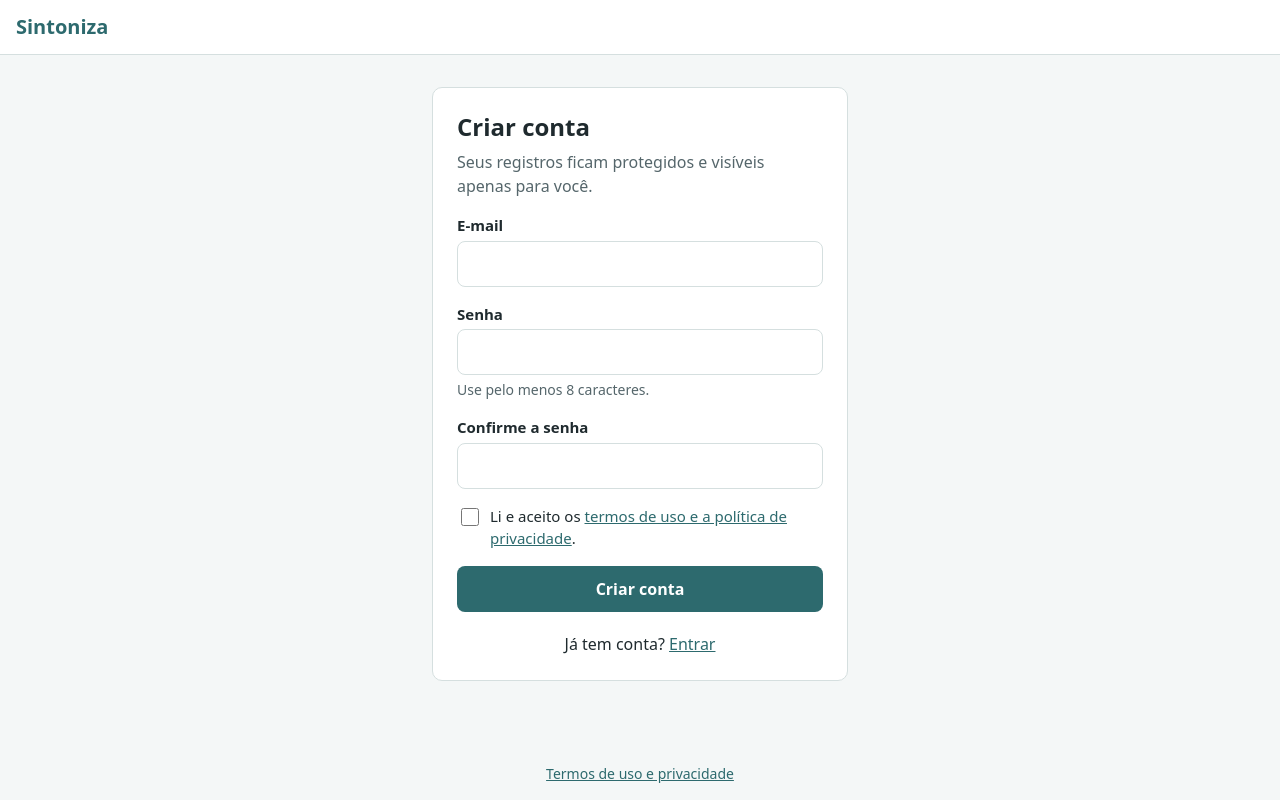
Test: RegisterPage › reports an e-mail that is already registered
Type "ana@example.com" into the field labelled "E-mail" at (640, 264), box [457,240,823,286]
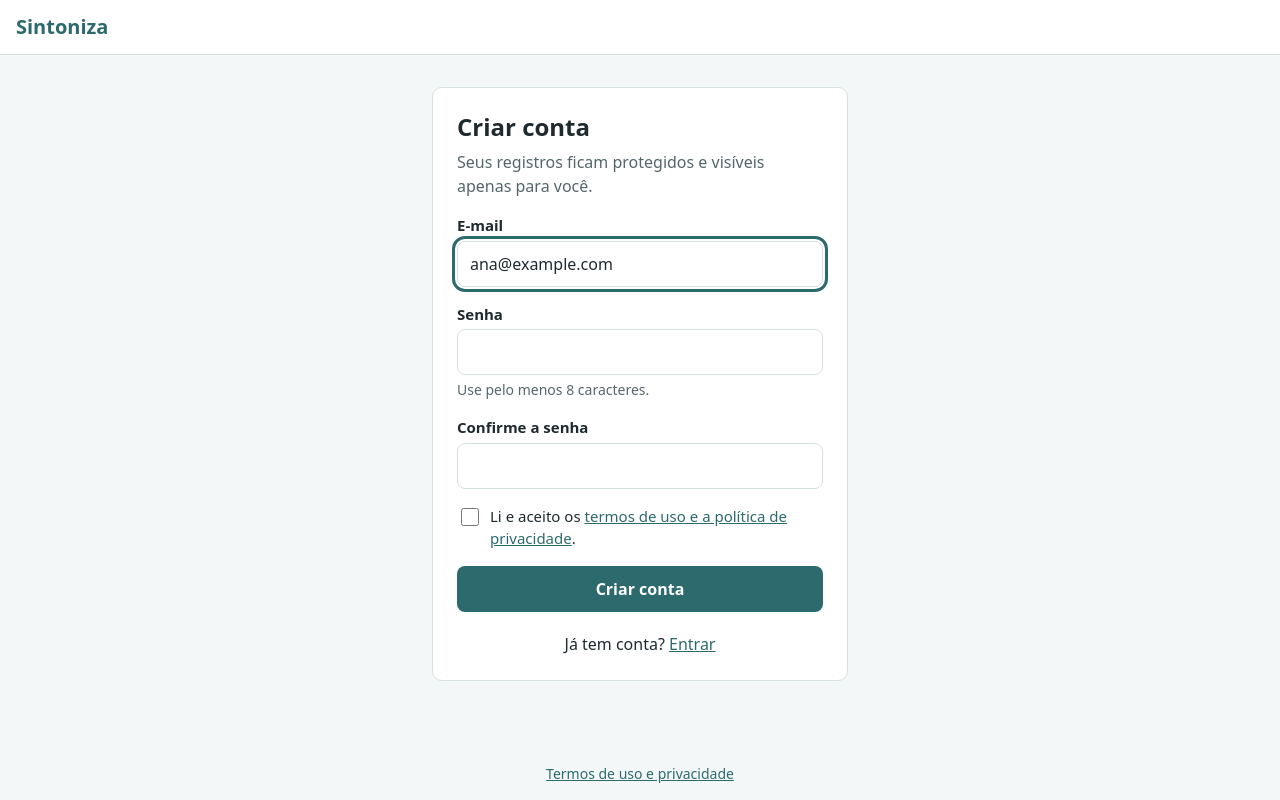
Type "senha-segura-123" into the password field labelled "Senha" at (640, 352), box [457,329,823,375]
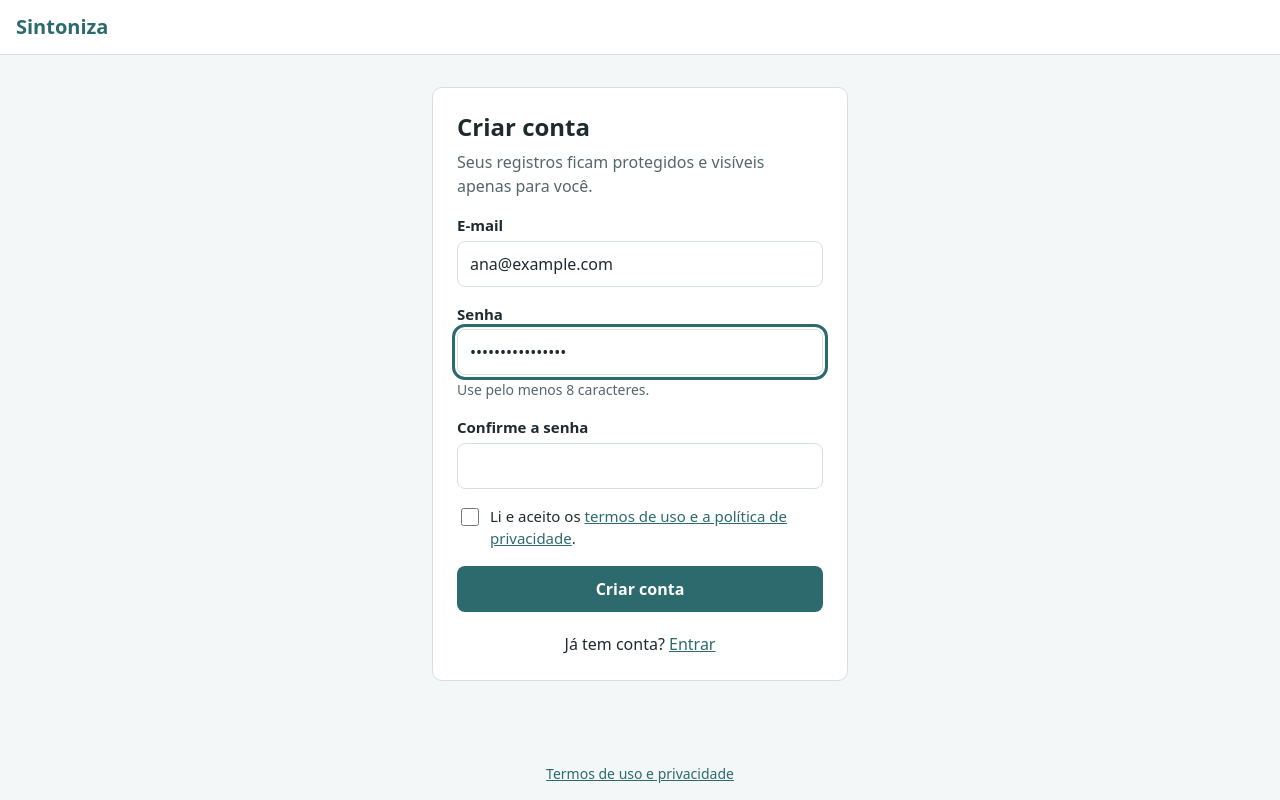
Type "senha-segura-123" into the password field labelled "Confirme a senha" at (640, 466), box [457,442,823,488]
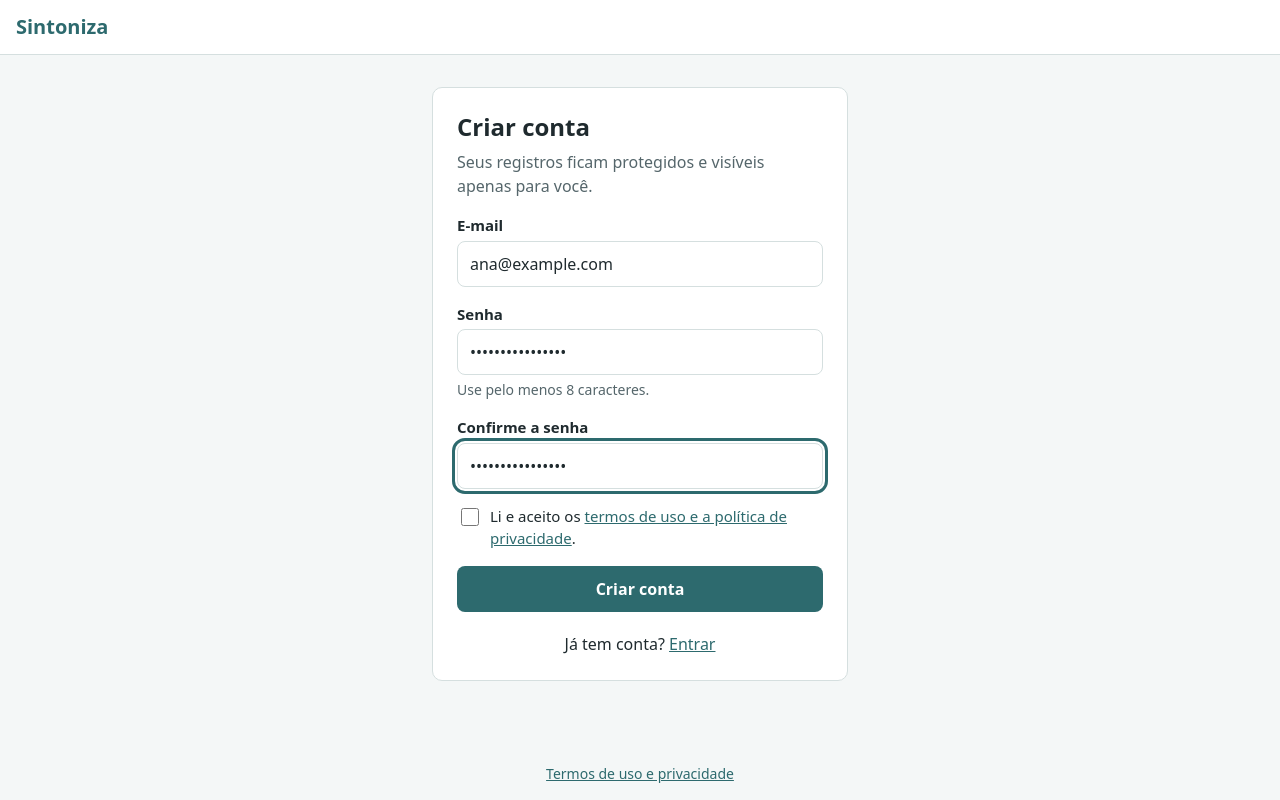
Click the checkbox at (470, 517), box [461,508,479,526]
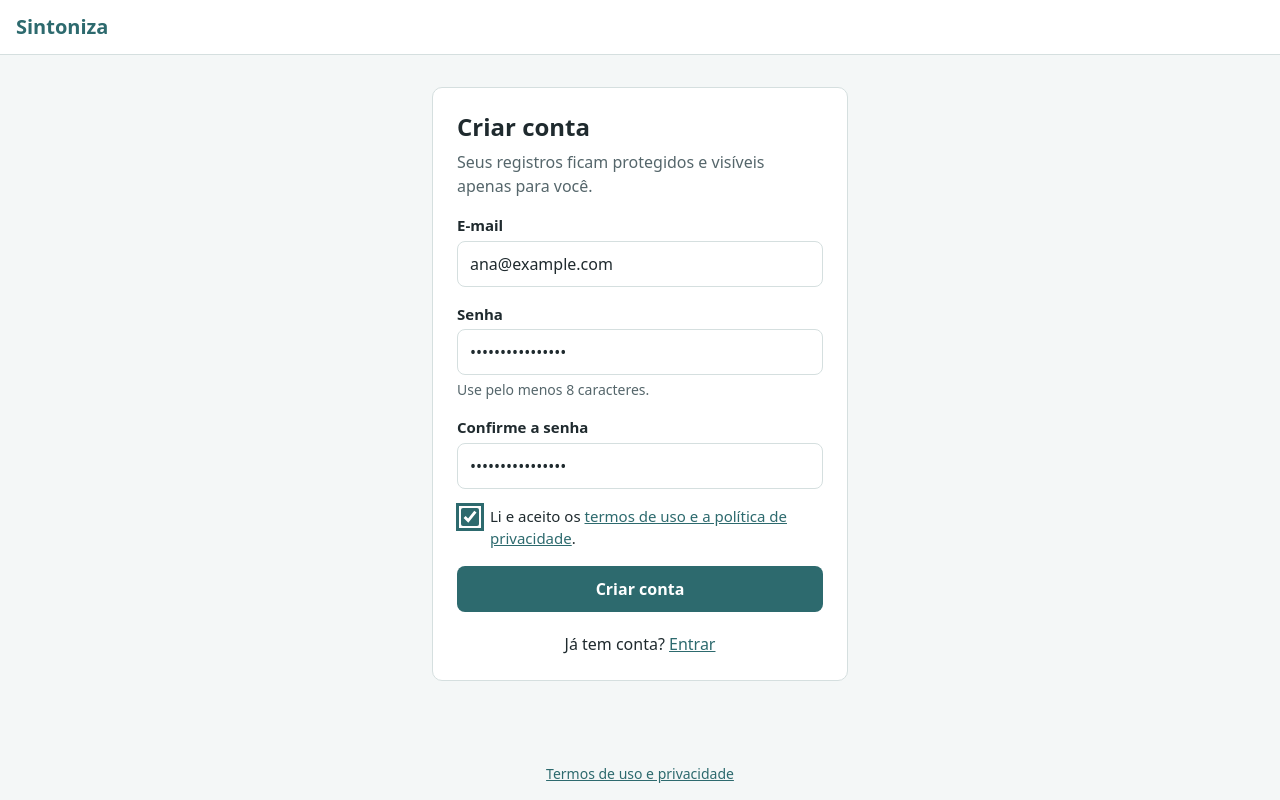
Click the button "Criar conta" at (640, 588), box [457,566,823,612]
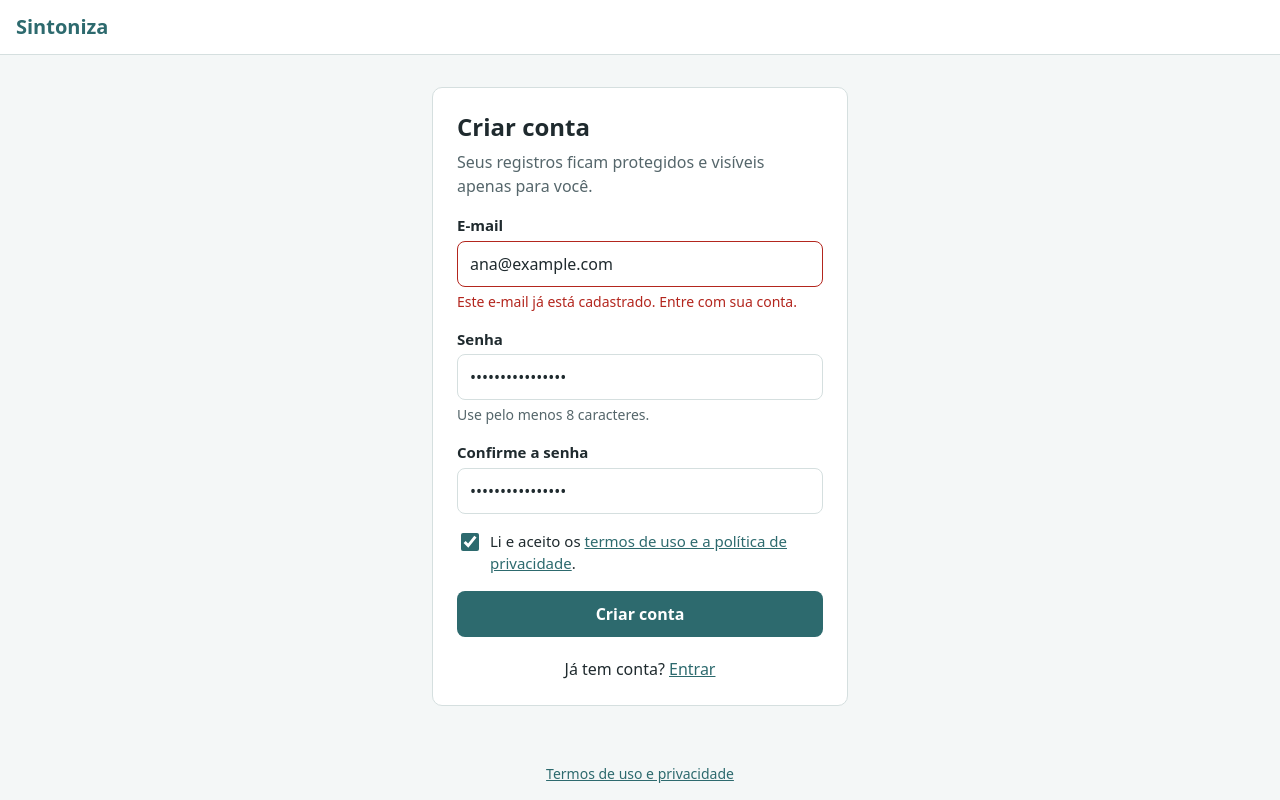
Expected: the button "Criar conta" is enabled, [457,590,823,636]
Expected: the text "Este e-mail já está cadastrado. Entre com sua conta." is shown, [457,290,823,312]
